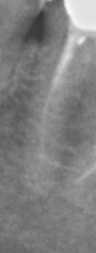fracture: (68, 160, 96, 188)
